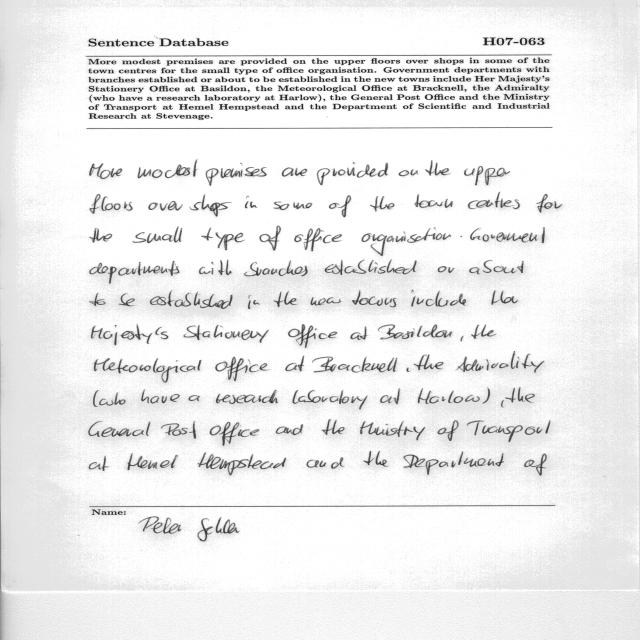word: (94, 358, 202, 383), (361, 227, 451, 256), (403, 451, 504, 475), (198, 453, 286, 476), (90, 261, 179, 283), (457, 351, 545, 373), (467, 420, 550, 442), (317, 162, 388, 185), (92, 325, 169, 345), (184, 325, 269, 343), (150, 291, 233, 309), (325, 259, 417, 275), (293, 390, 368, 409), (206, 163, 267, 186), (312, 357, 397, 373), (216, 357, 268, 381), (360, 422, 425, 441), (470, 227, 545, 243), (210, 422, 260, 446), (288, 324, 337, 348), (378, 325, 452, 340), (294, 228, 342, 251), (138, 160, 197, 178), (244, 261, 308, 277), (89, 421, 150, 437), (201, 228, 244, 250), (411, 290, 466, 307), (418, 389, 480, 404), (190, 195, 232, 217), (468, 192, 520, 209), (464, 166, 510, 185), (216, 390, 278, 404), (127, 454, 178, 471), (90, 194, 133, 214), (133, 227, 183, 244), (469, 260, 524, 274), (352, 291, 396, 308), (161, 422, 197, 439), (259, 226, 281, 251), (141, 390, 180, 404), (415, 194, 453, 208), (199, 259, 232, 275), (90, 163, 122, 179), (524, 454, 547, 476), (329, 195, 351, 217), (537, 194, 563, 212), (414, 354, 443, 370), (505, 388, 535, 403), (307, 457, 344, 469), (438, 420, 459, 441), (425, 160, 450, 176), (363, 451, 388, 467), (491, 291, 518, 305), (370, 196, 395, 211), (274, 291, 297, 307), (322, 419, 345, 435), (99, 393, 126, 406), (471, 325, 496, 339), (90, 228, 112, 243), (380, 388, 400, 404), (149, 201, 183, 210), (274, 202, 312, 210), (89, 456, 109, 471), (276, 424, 303, 435), (285, 356, 304, 371), (311, 297, 341, 306), (350, 327, 368, 340), (282, 168, 307, 177), (90, 293, 106, 306), (119, 294, 135, 307), (248, 295, 260, 309), (245, 196, 257, 208), (482, 389, 490, 404), (438, 266, 455, 273), (399, 170, 418, 176), (94, 390, 99, 407), (188, 395, 200, 401), (501, 400, 504, 407), (461, 336, 464, 341), (407, 368, 410, 372), (460, 236, 462, 237)
